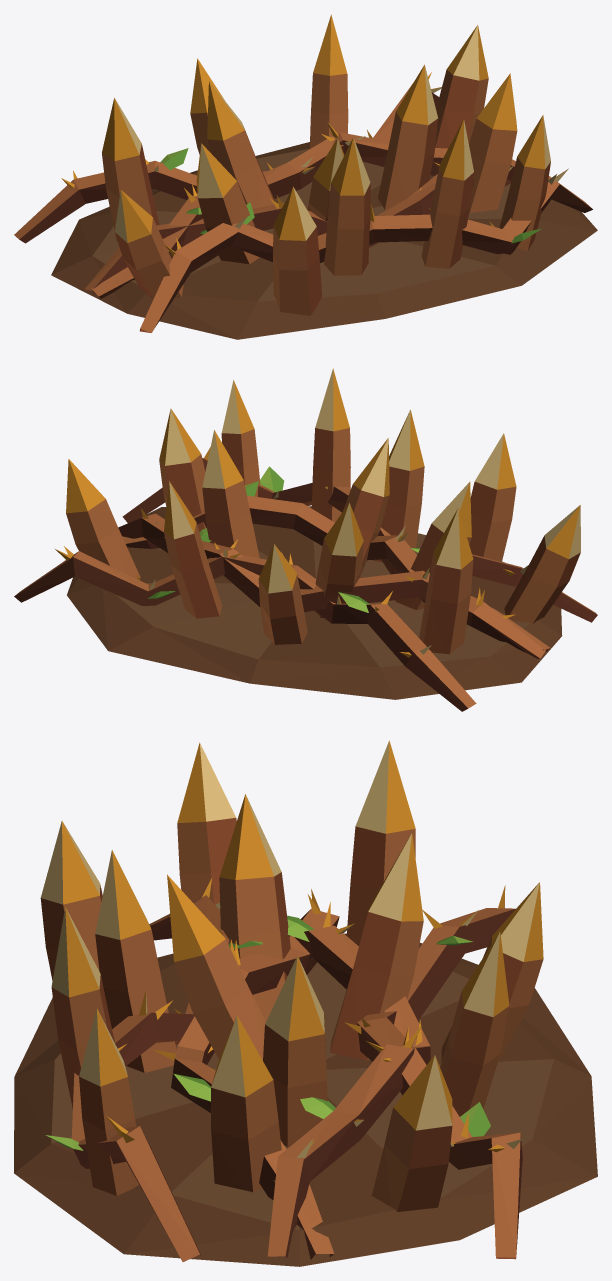
File: thorn_spikes_5.glb
3 renders of one model, top to bottom at view 1: azimuth 30°, elevation 25°; view 2: azimuth 150°, elevation 25°; view 3: azimuth 270°, elevation 25°, orthographic. The views are drawn at different scales.
Visible parts, largest first — view 1: thorn_spikes_5; view 2: thorn_spikes_5; view 3: thorn_spikes_5.
Boxes of the visible parts, bbox=[...] form: thorn_spikes_5: bbox=[14, 14, 597, 339]; thorn_spikes_5: bbox=[14, 368, 597, 711]; thorn_spikes_5: bbox=[14, 740, 597, 1266].
Size of the model in its own units: 1.25 by 0.4123 by 0.9154.
